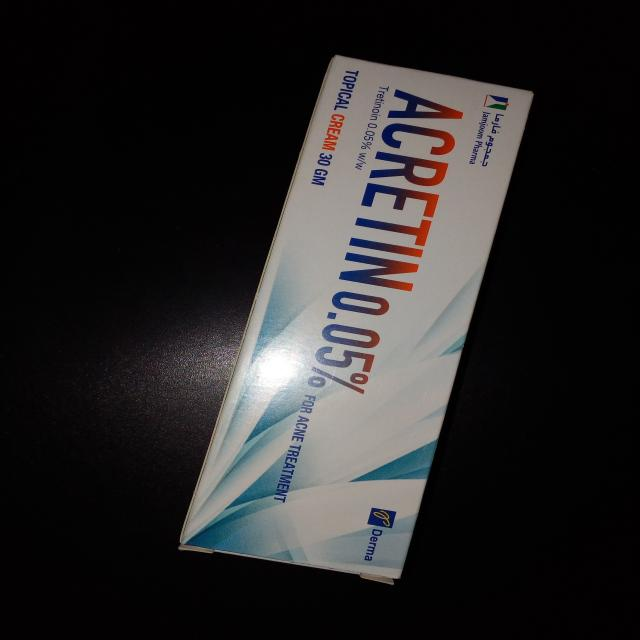Medicine: (177, 52, 531, 582)
